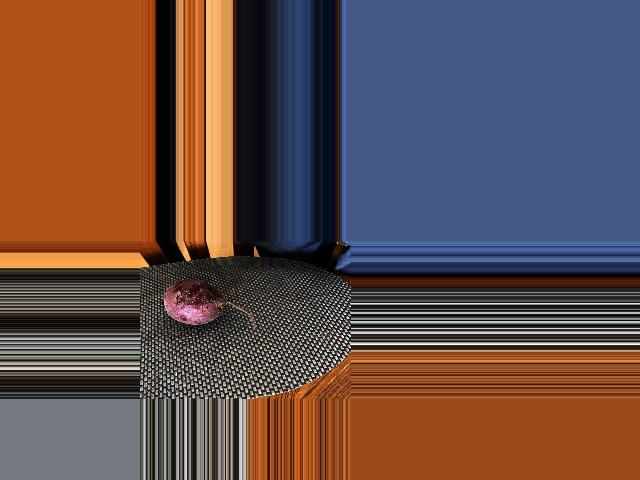beet: (164, 279, 255, 330)
